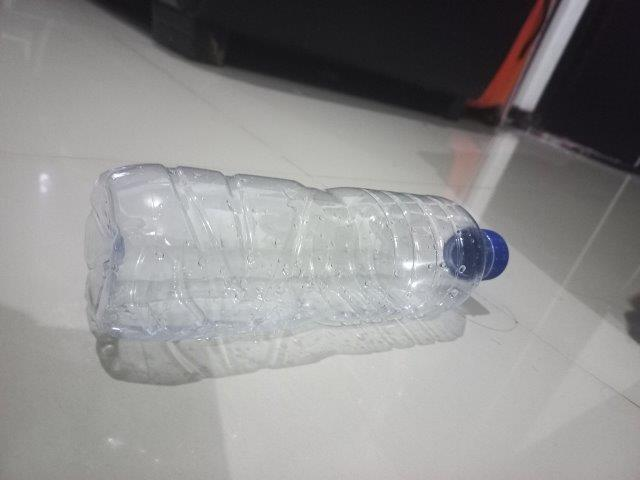botolplastik: (83, 163, 510, 332)
